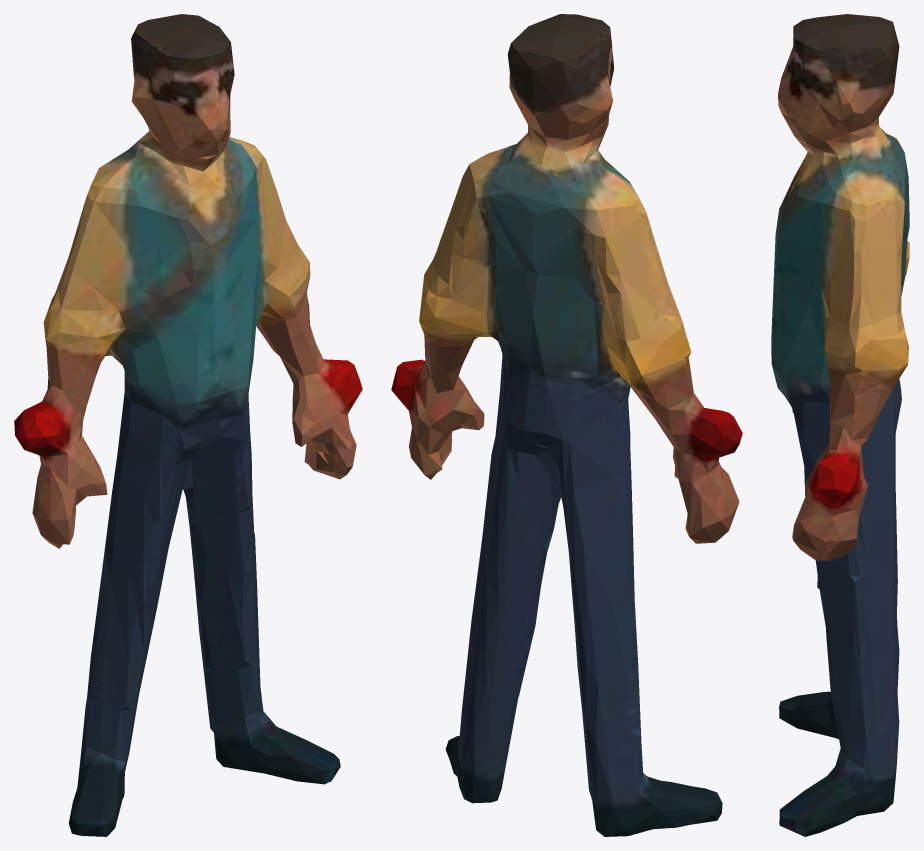
The model's file is habitant-loin.glb.
3 renders of one model, left to right at view 1: azimuth 30°, elevation 25°; view 2: azimuth 150°, elevation 25°; view 3: azimuth 270°, elevation 25°, orthographic. The views are drawn at different scales.
Visible parts, largest first — view 1: habitant; view 2: habitant; view 3: habitant.
Boxes of the visible parts, x1,y1,x2,y2 form: habitant: (14, 14, 362, 836); habitant: (391, 14, 742, 836); habitant: (771, 14, 909, 836).
Bounding box in the file's own units: 0.4736 × 1.01 × 0.169.
Materials: 1 (1 with a texture image).
